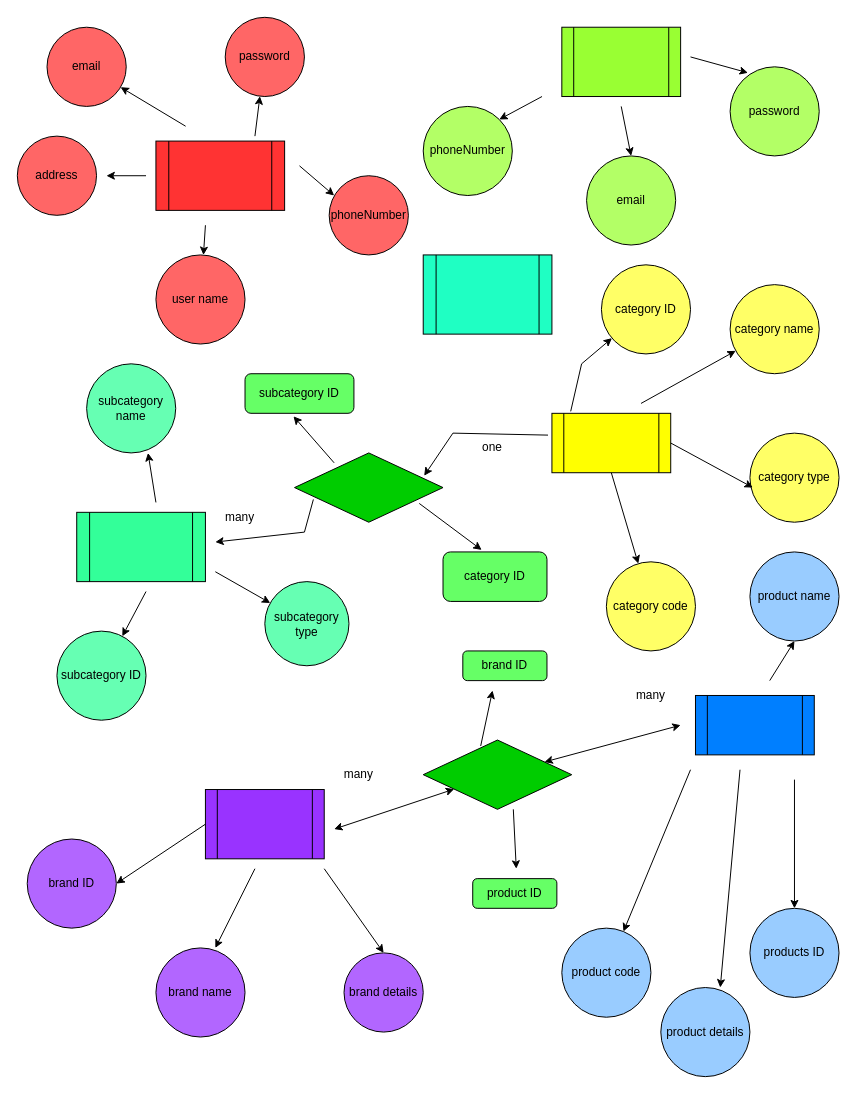
This 856x1094 diagram has some shape labels left out. Each missing label, with the centre of its shape:
"BRANDS" belongs at [264,824].
"Cat_Sub" belongs at [368,487].
"CATEGORY" belongs at [611,442].
"LOG IN" belongs at [621,61].
"PRODUCTS" belongs at [754,724].
"REGISTRATION" belongs at [220,175].
"SUB CATEGORY" belongs at [140,546].
"Sub_Brand" belongs at [497,774].
"wholesaler name" belongs at [487,294].
